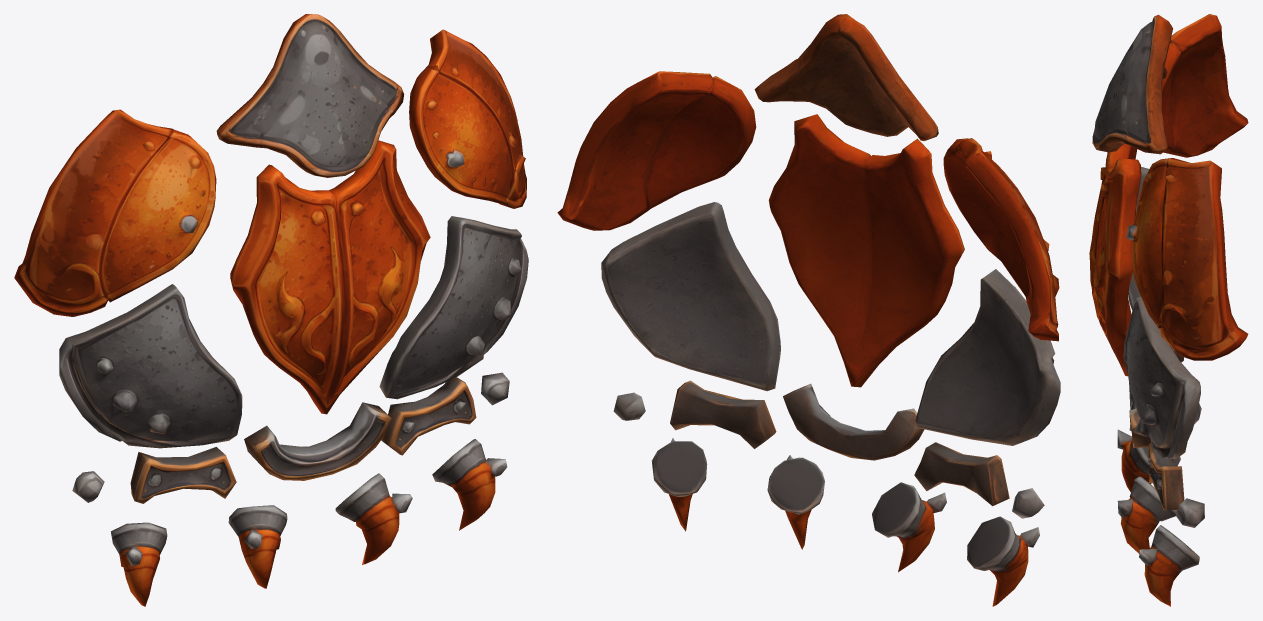
File: gray_orange.glb
3 renders of one model, left to right at view 1: azimuth 30°, elevation 25°; view 2: azimuth 150°, elevation 25°; view 3: azimuth 270°, elevation 25°, orthographic. The views are drawn at different scales.
Visible parts, largest first — view 1: tripo_node_8d42efeb-eff7-4566-95fa-288737203c7a; view 2: tripo_node_8d42efeb-eff7-4566-95fa-288737203c7a; view 3: tripo_node_8d42efeb-eff7-4566-95fa-288737203c7a.
Part boxes in pixels (x1,y1,x2,y2): tripo_node_8d42efeb-eff7-4566-95fa-288737203c7a: (14, 14, 528, 606); tripo_node_8d42efeb-eff7-4566-95fa-288737203c7a: (557, 14, 1060, 606); tripo_node_8d42efeb-eff7-4566-95fa-288737203c7a: (1089, 14, 1248, 606).
Size of the model in its own units: 0.9426 by 1 by 0.2773.
1 material, 1 textured.
